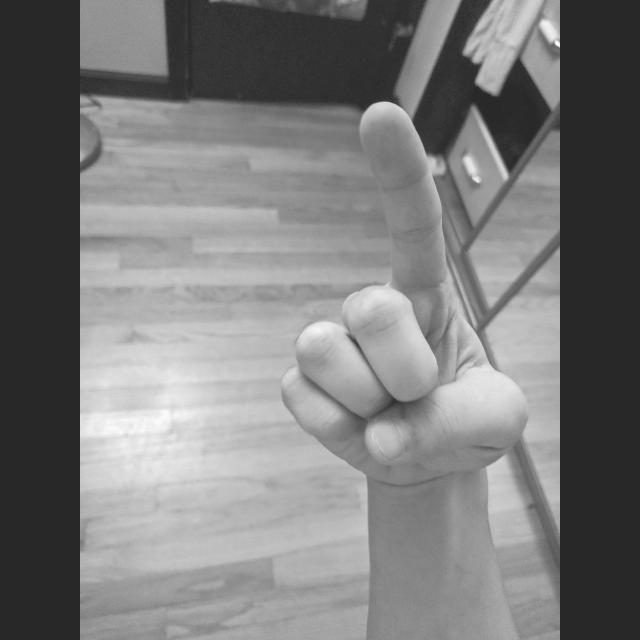D: (277, 98, 533, 496)
